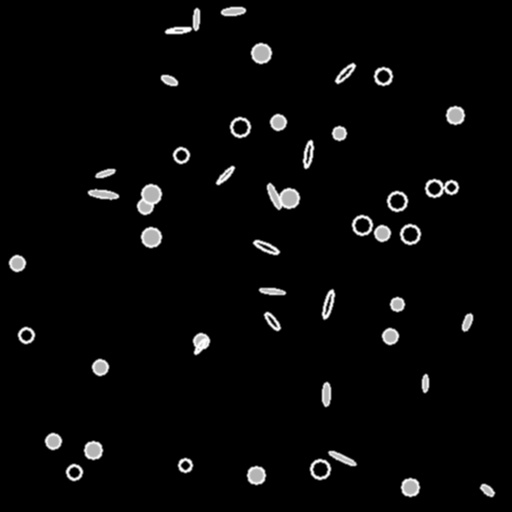pseudomonas: (252, 238, 280, 256), (334, 62, 356, 84), (266, 182, 282, 210), (328, 450, 356, 466), (321, 289, 335, 319), (263, 311, 281, 331), (216, 165, 234, 185), (302, 140, 314, 168), (88, 189, 118, 199), (479, 482, 495, 498), (160, 73, 178, 87), (193, 338, 207, 354), (222, 6, 244, 16), (461, 313, 473, 331), (259, 287, 285, 295), (95, 168, 115, 178), (166, 26, 190, 34), (323, 382, 329, 406), (193, 9, 199, 29), (422, 374, 428, 392)
synechocystis: (401, 225, 419, 243), (388, 192, 406, 210), (353, 216, 371, 234), (311, 460, 329, 478), (252, 44, 270, 62), (142, 185, 160, 203), (280, 189, 298, 207), (231, 118, 249, 136), (142, 228, 160, 246), (402, 479, 418, 495), (426, 180, 442, 196), (248, 467, 264, 483), (375, 68, 391, 84), (447, 107, 463, 123), (85, 442, 101, 458), (194, 334, 208, 348), (46, 434, 60, 448), (375, 226, 389, 240), (174, 148, 188, 162), (383, 329, 397, 343), (10, 256, 24, 270), (93, 360, 107, 374), (67, 465, 81, 479), (138, 199, 152, 213), (19, 328, 33, 342), (271, 115, 285, 129), (445, 181, 457, 193), (333, 127, 345, 139), (179, 459, 191, 471), (391, 298, 403, 310)
